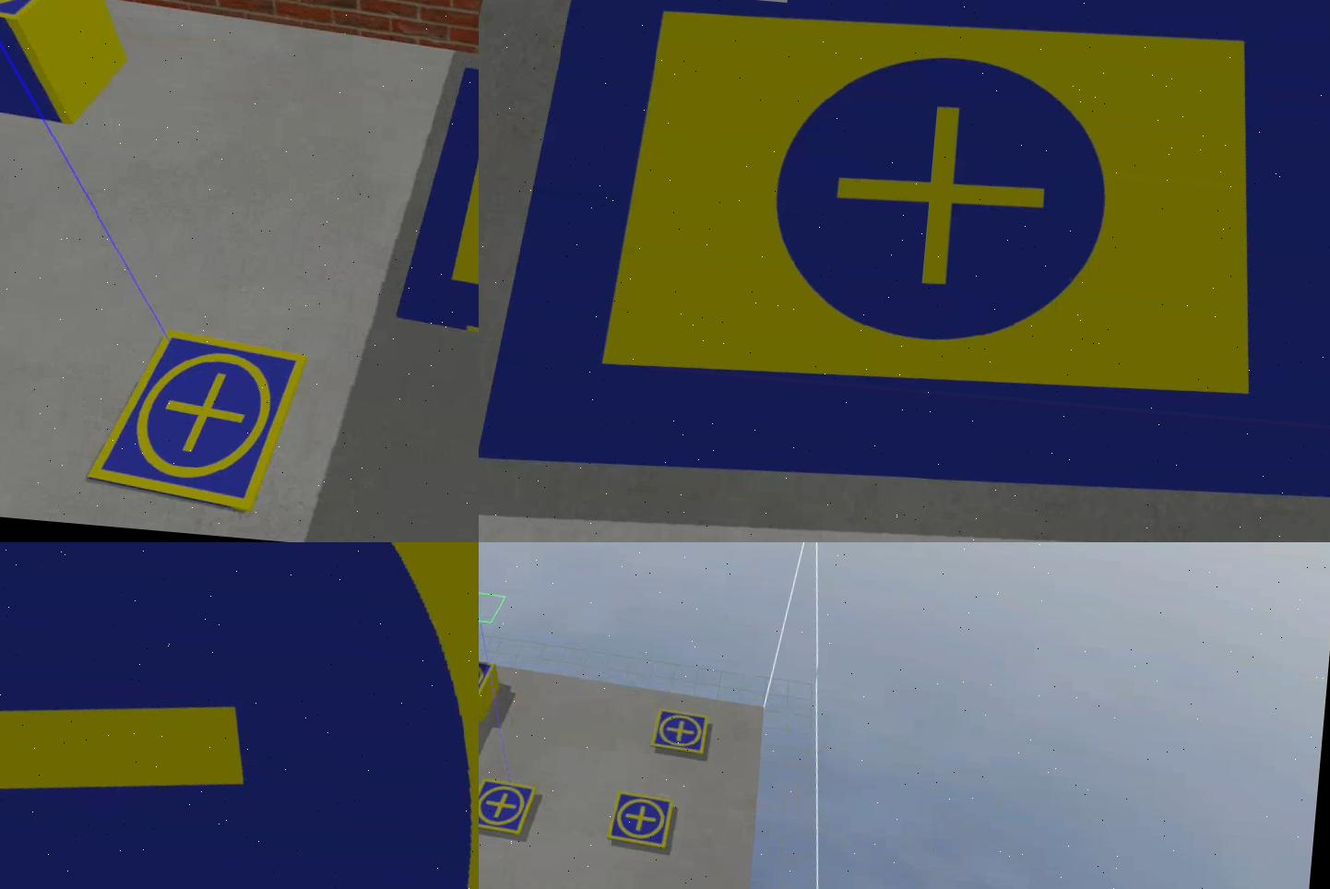large_base: (480, 1, 1330, 536), (1, 543, 480, 889), (395, 56, 480, 372)
small_base: (92, 326, 310, 513), (608, 790, 678, 852), (480, 777, 539, 839), (1, 1, 89, 41), (648, 707, 715, 759), (480, 655, 496, 707)
